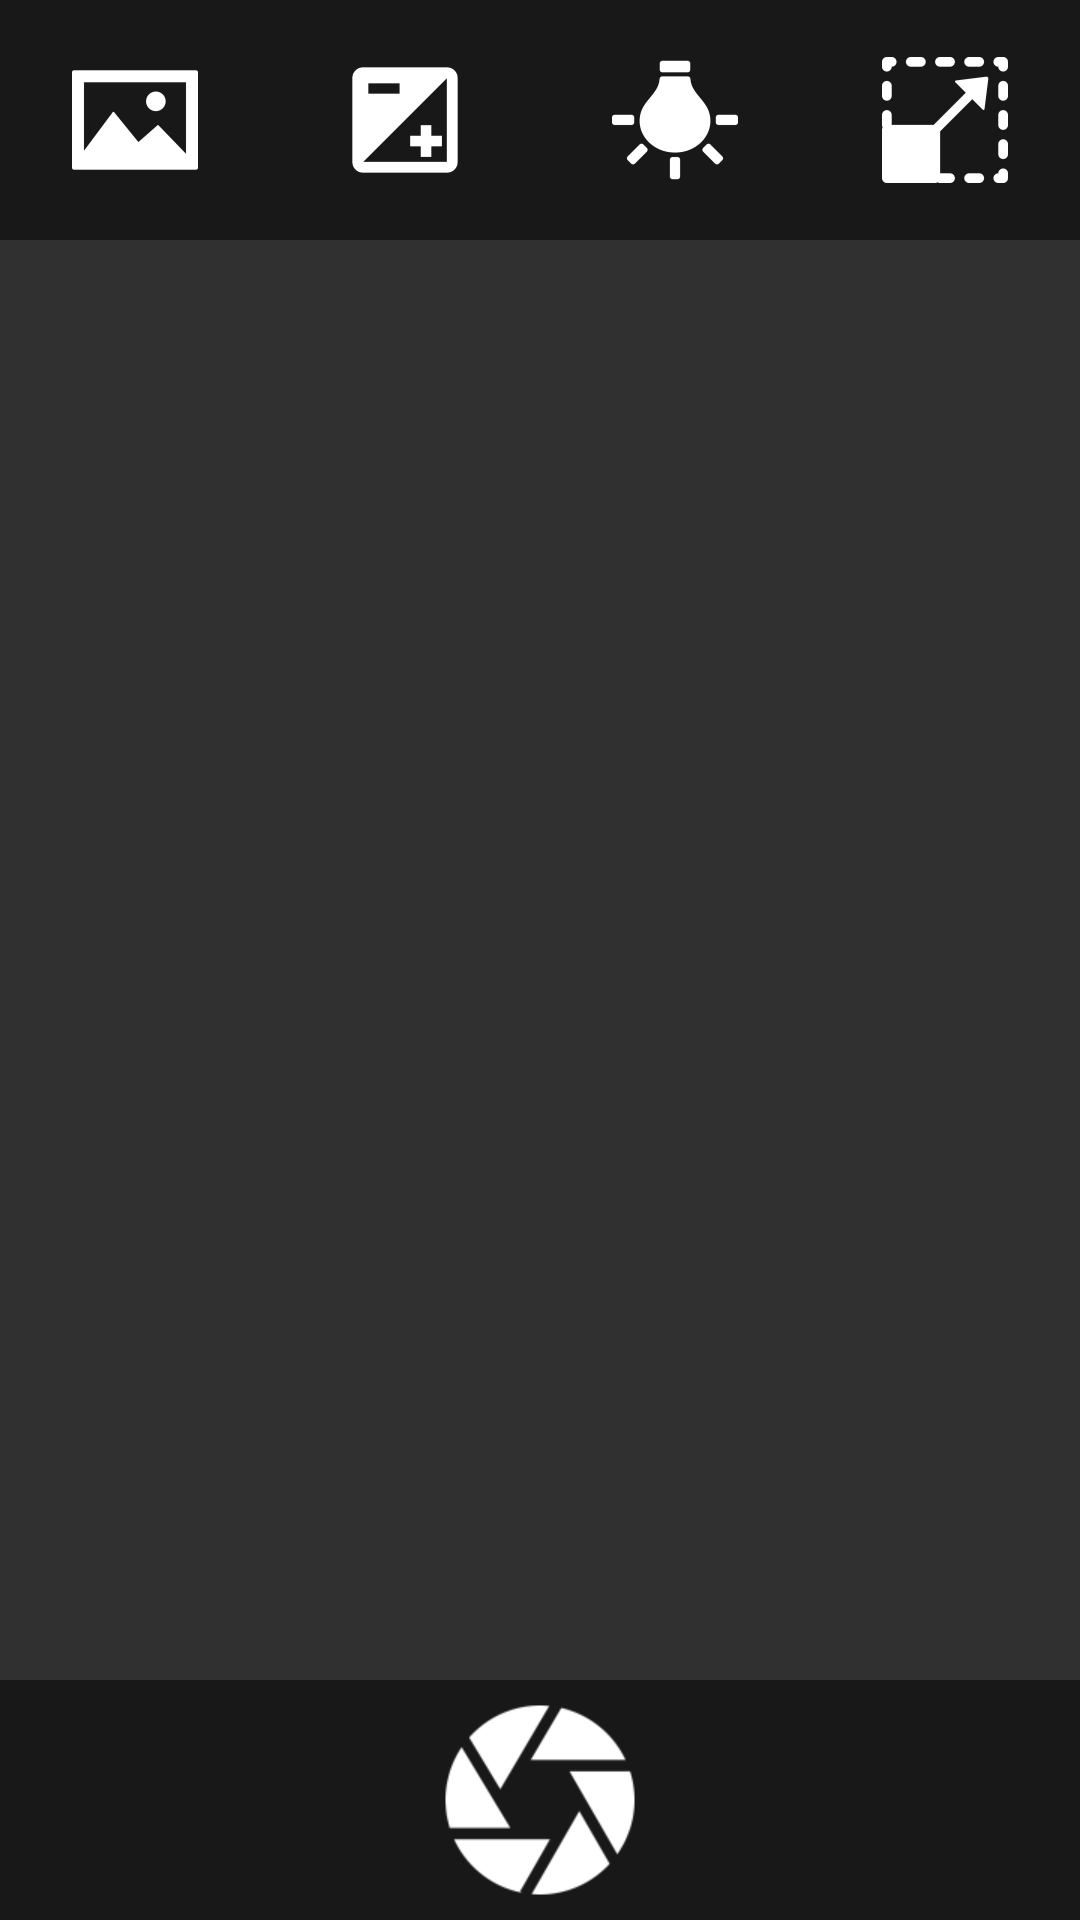

Where to tap for icons on this 1080w x 1920h app screen, as [x,y]:
exposure: [405,120]
resolution: [945,120]
shutter: [540,1800]
whitebalance: [675,120]
